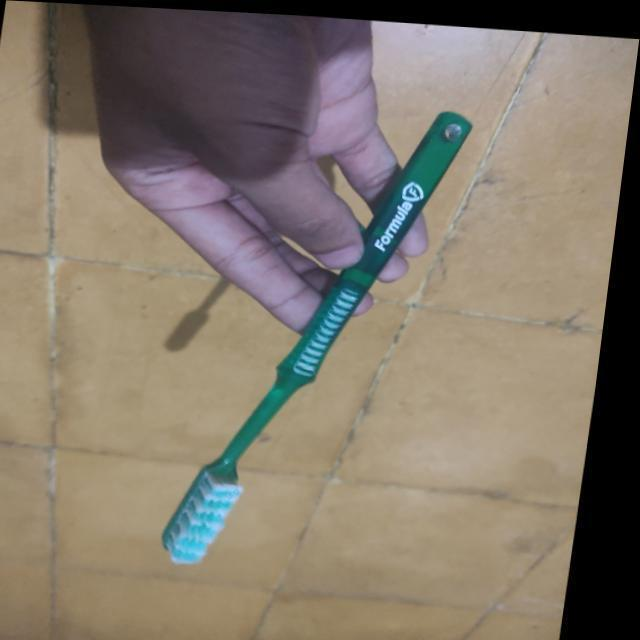toothbrush: (134, 73, 516, 591)
